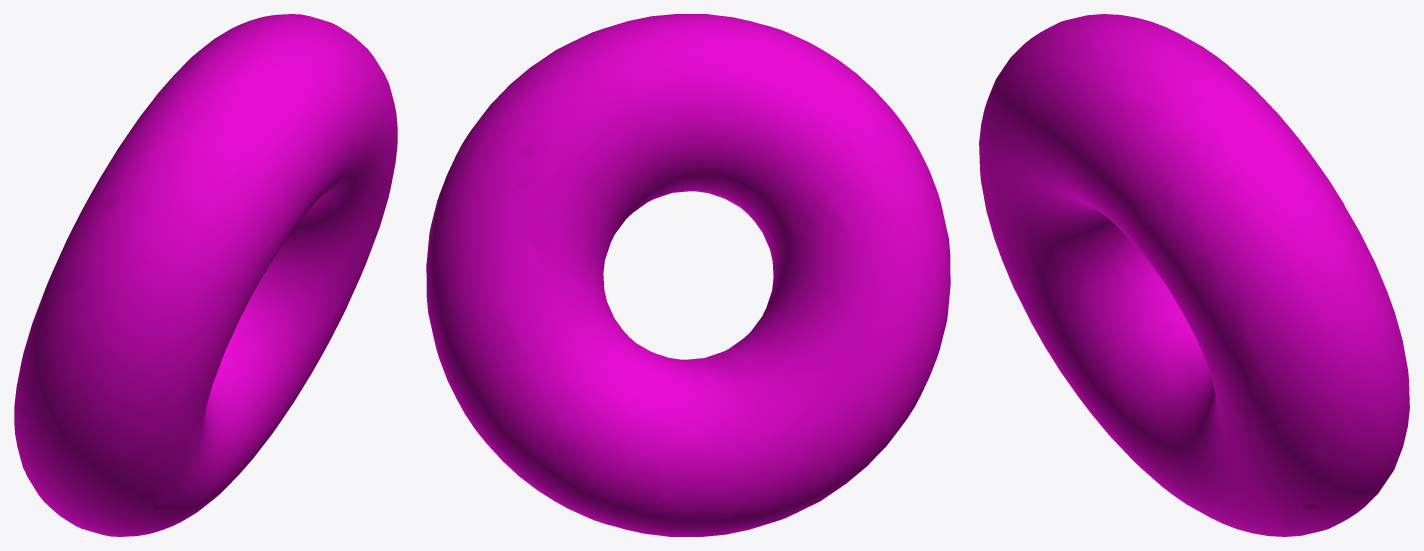
File: torrus_optimized.glb
3 views of the same model, side by side, from view 1: azimuth 30°, elevation 25°; view 2: azimuth 150°, elevation 25°; view 3: azimuth 270°, elevation 25° (orthographic). The views are drawn at different scales.
Parts seen in each view (by area): view 1: Torus.002; view 2: Torus.002; view 3: Torus.002.
Boxes of the visible parts, x1,y1,x2,y2 form: Torus.002: [14, 14, 397, 536]; Torus.002: [426, 14, 950, 536]; Torus.002: [979, 14, 1409, 536].
Size of the model in its own units: 0.9297 by 1 by 0.7756.
